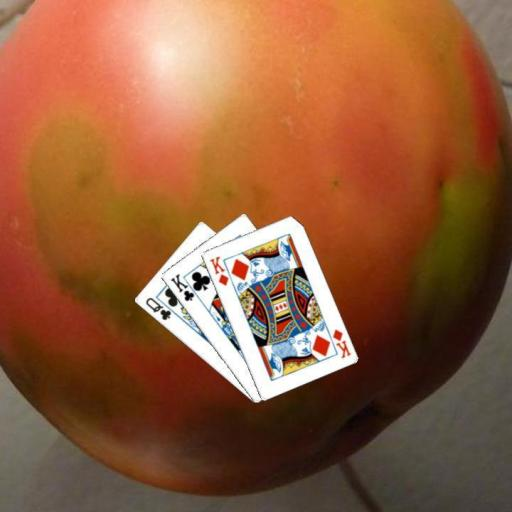card-corner: (167, 270, 201, 303), (142, 294, 173, 322), (206, 253, 230, 287), (329, 326, 352, 359)
